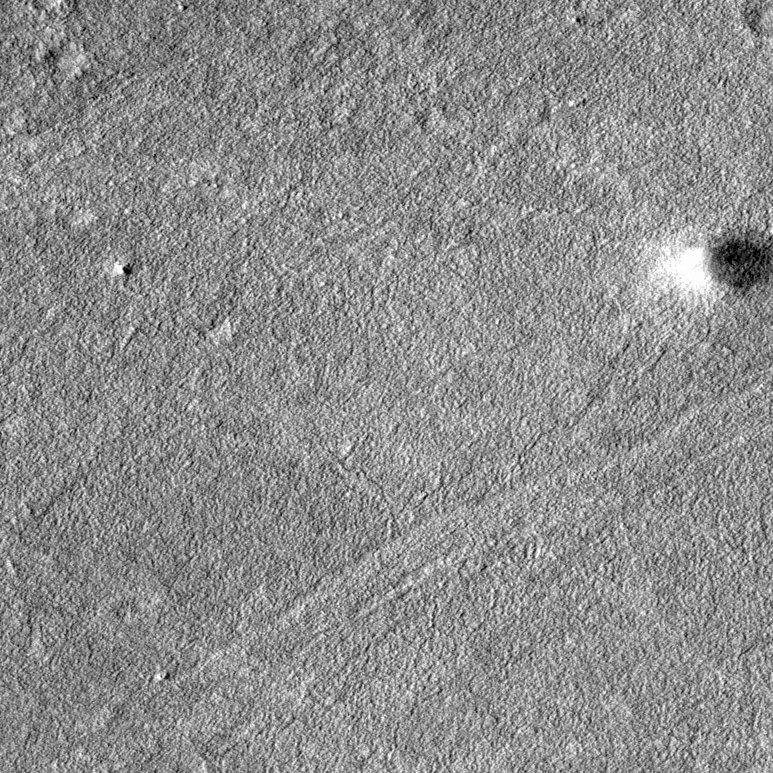dust_devil: (645, 226, 773, 302)
